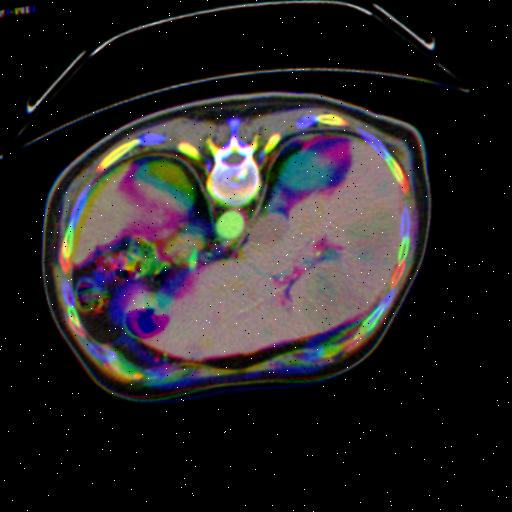Tumor: (303, 268, 363, 336), (343, 220, 398, 268)
